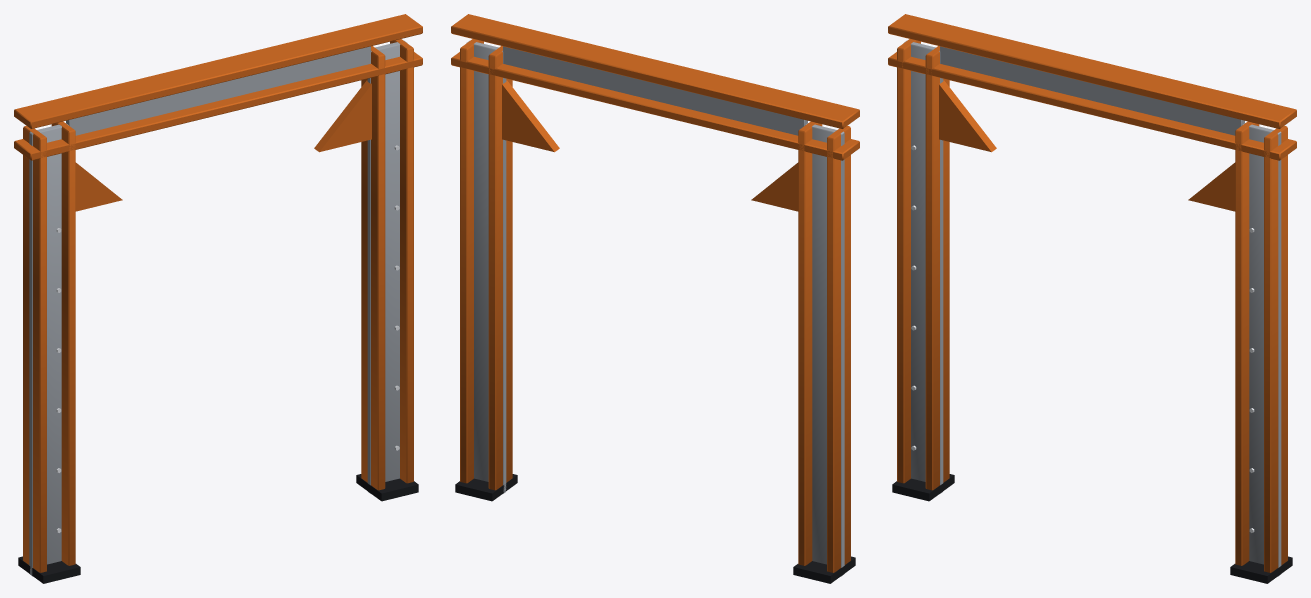
File: doorframe_ibeam_portal.glb
3 renders of one model, left to right at view 1: azimuth 30°, elevation 25°; view 2: azimuth 150°, elevation 25°; view 3: azimuth 330°, elevation 25°, orthographic.
Parts seen in each view (by area): view 1: doorframe_ibeam_portal; view 2: doorframe_ibeam_portal; view 3: doorframe_ibeam_portal.
Part boxes in pixels (<box>): doorframe_ibeam_portal: <box>14,14,422,583</box>; doorframe_ibeam_portal: <box>451,14,859,583</box>; doorframe_ibeam_portal: <box>888,14,1296,583</box>.
Bounding box in the file's own units: 2.6 × 2.93 × 0.29.
